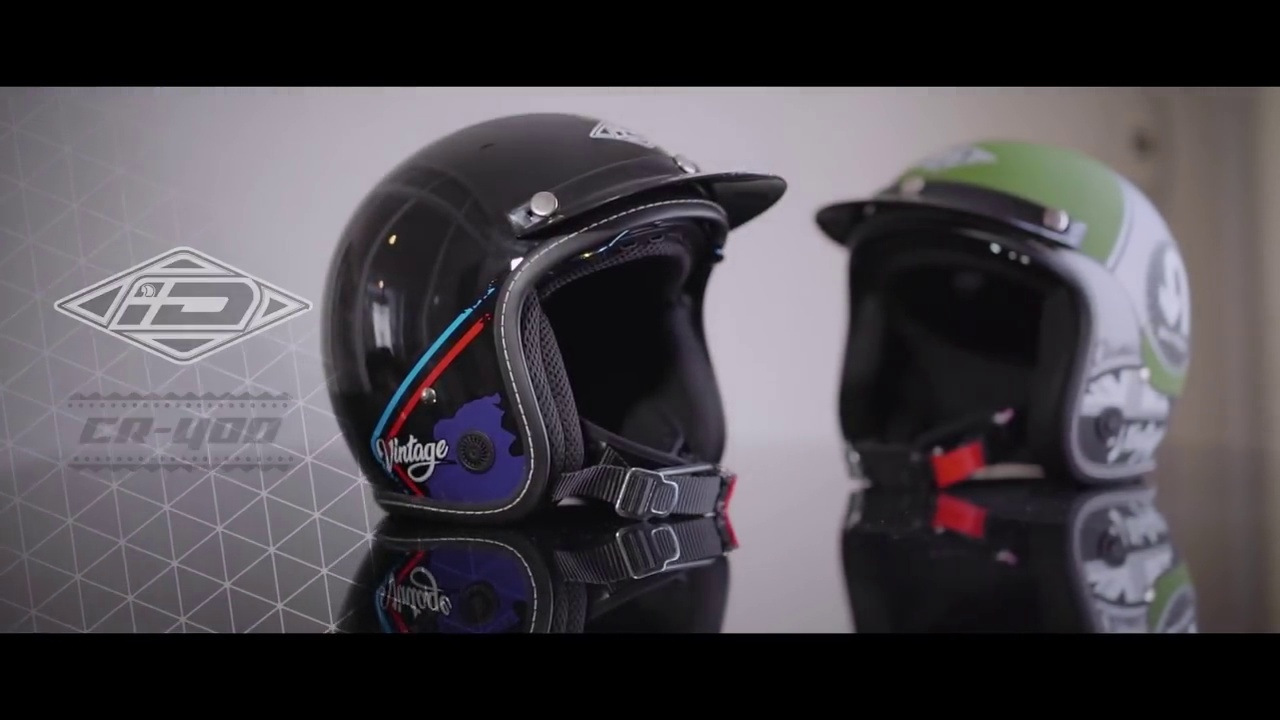helmet: (311, 88, 775, 535), (816, 112, 1202, 484)
